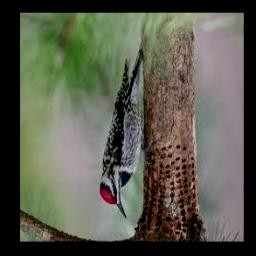Woodpecker: (100, 46, 145, 220)
